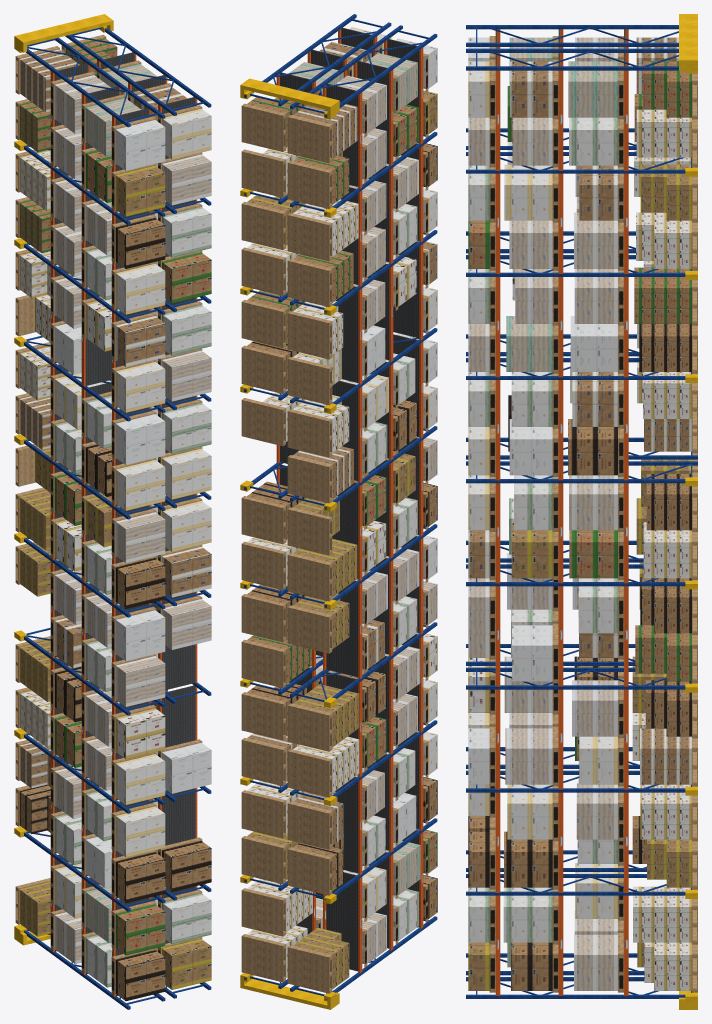
Rendered from racks_w1_s.gltf.
3 views of the same model, side by side, from view 1: azimuth 30°, elevation 25°; view 2: azimuth 150°, elevation 25°; view 3: azimuth 270°, elevation 25° (orthographic). The views are drawn at different scales.
Parts seen in each view (by area): view 1: racks_w1_s; view 2: racks_w1_s; view 3: racks_w1_s.
Part boxes in pixels (x1,y1,x2,y2): racks_w1_s: (14,14,211,1009); racks_w1_s: (240,14,437,1009); racks_w1_s: (466,14,697,1009).
Size of the model in its own units: 2.6 by 24.86 by 5.5.
19 materials, 19 textured.
